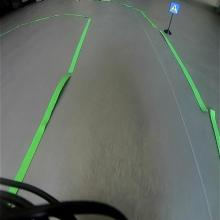crosswalk: (169, 1, 180, 15)
